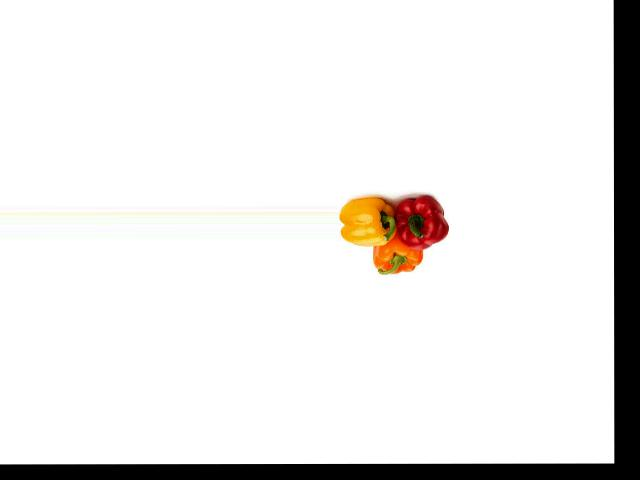bell_pepper: (339, 192, 393, 247)
